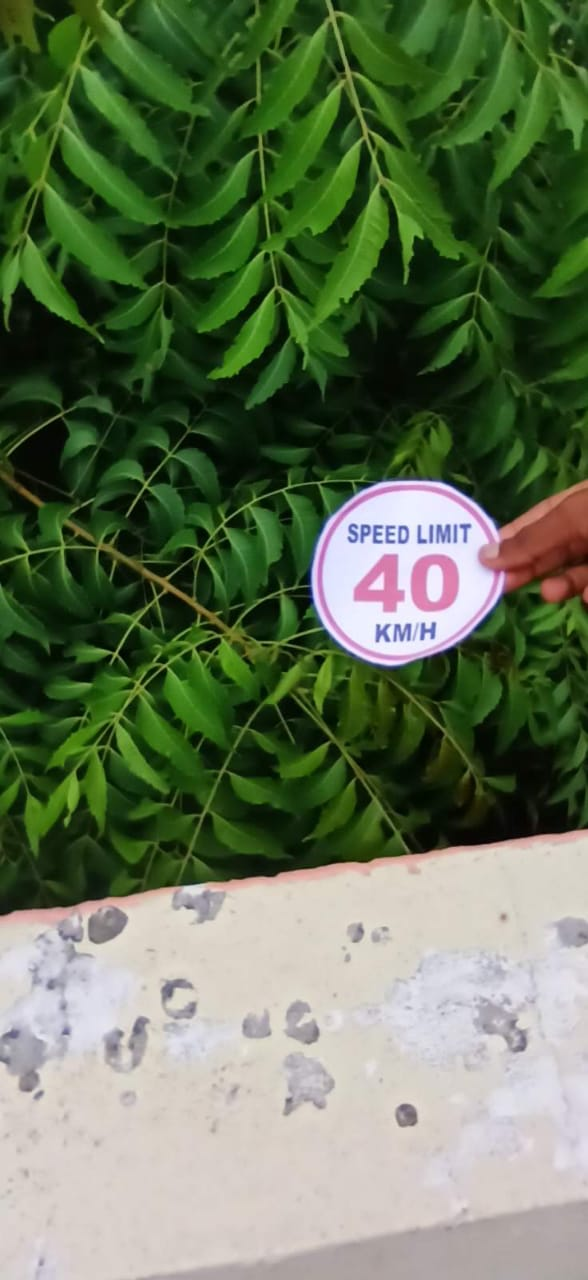SPEED LIMIT (40 KM/H): (308, 460, 540, 675)
